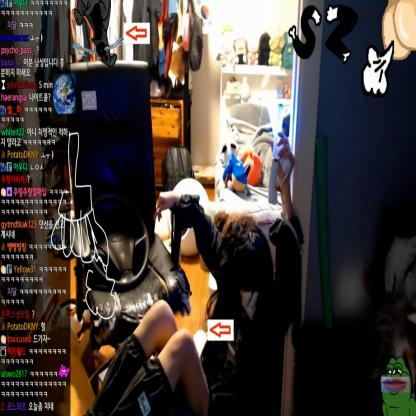streamer: (86, 130, 303, 416)
